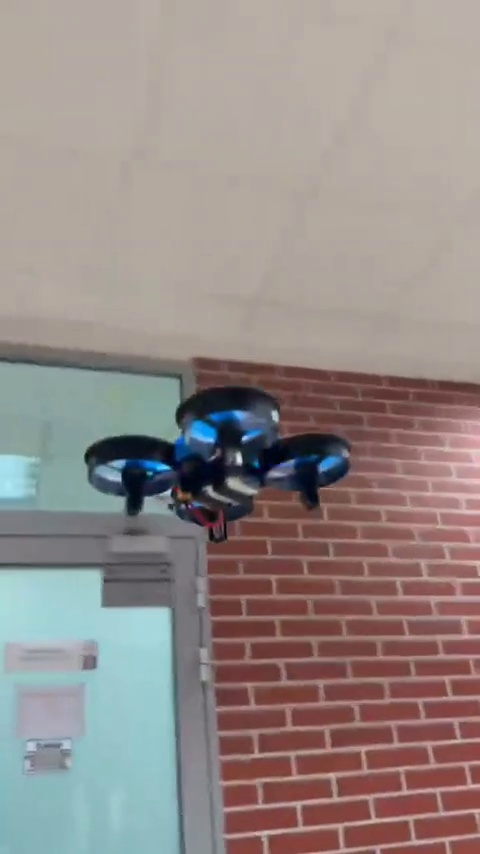drone: (86, 390, 357, 545)
